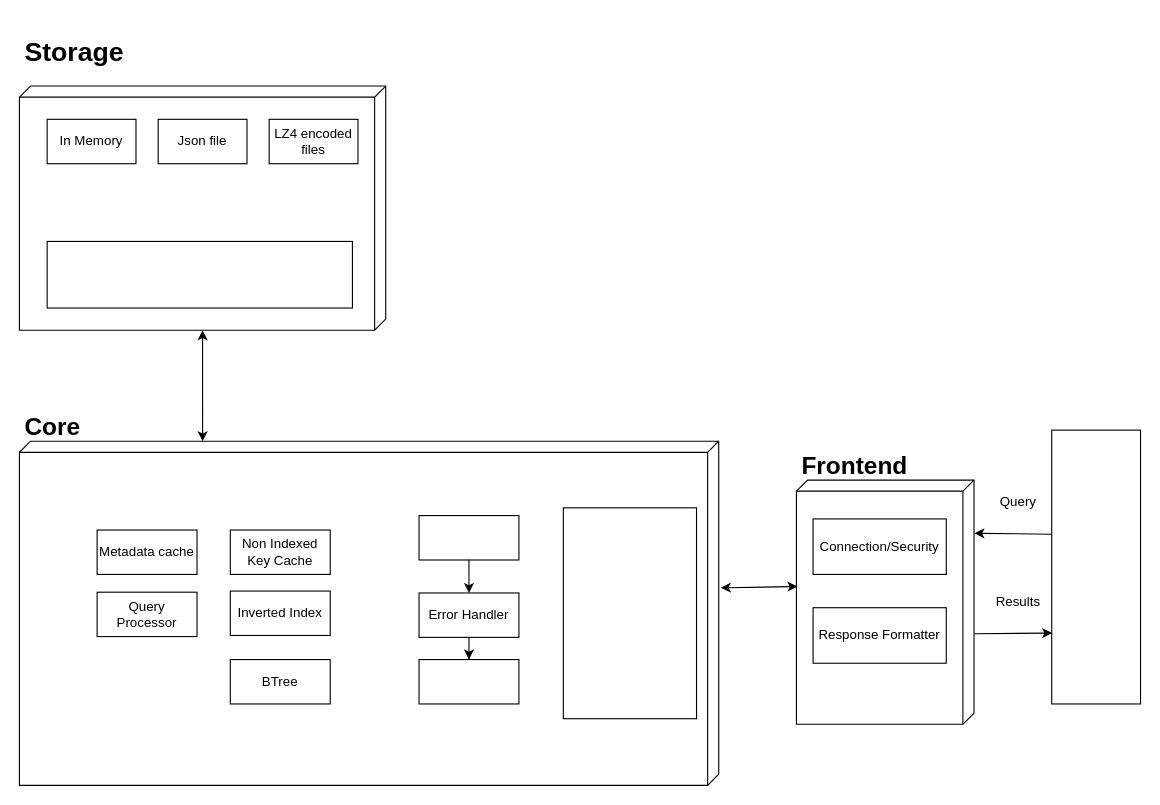
Image size: 1160x805. Some labels were removed from this diagram. The centre of each missing label's shape, as x and y in pixels:
"CLIENTS" goes at (x=1096, y=566).
"Optimizer" goes at (x=468, y=681).
"Query Parser" goes at (x=468, y=537).
"Storage Handler" goes at (x=199, y=274).
"Thread Handler" goes at (x=629, y=613).
